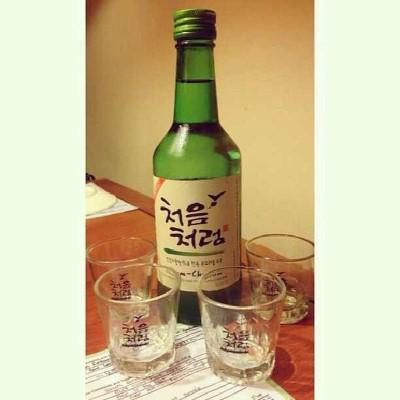soju: (148, 7, 252, 314)
